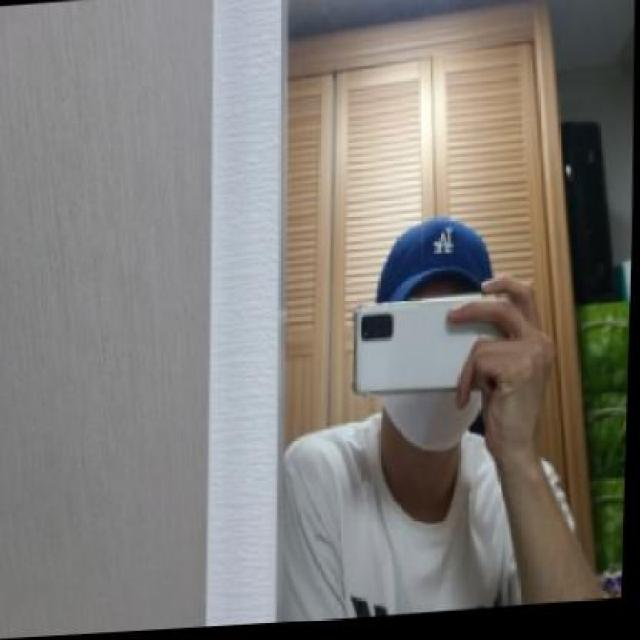hat: (373, 214, 502, 309)
